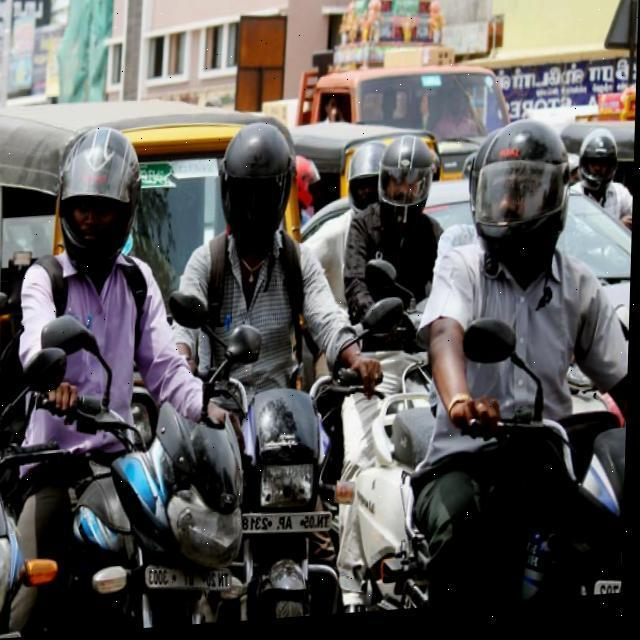Helmet: (42, 115, 156, 290), (464, 118, 583, 284), (205, 111, 308, 273), (372, 130, 446, 242), (339, 136, 389, 212)
